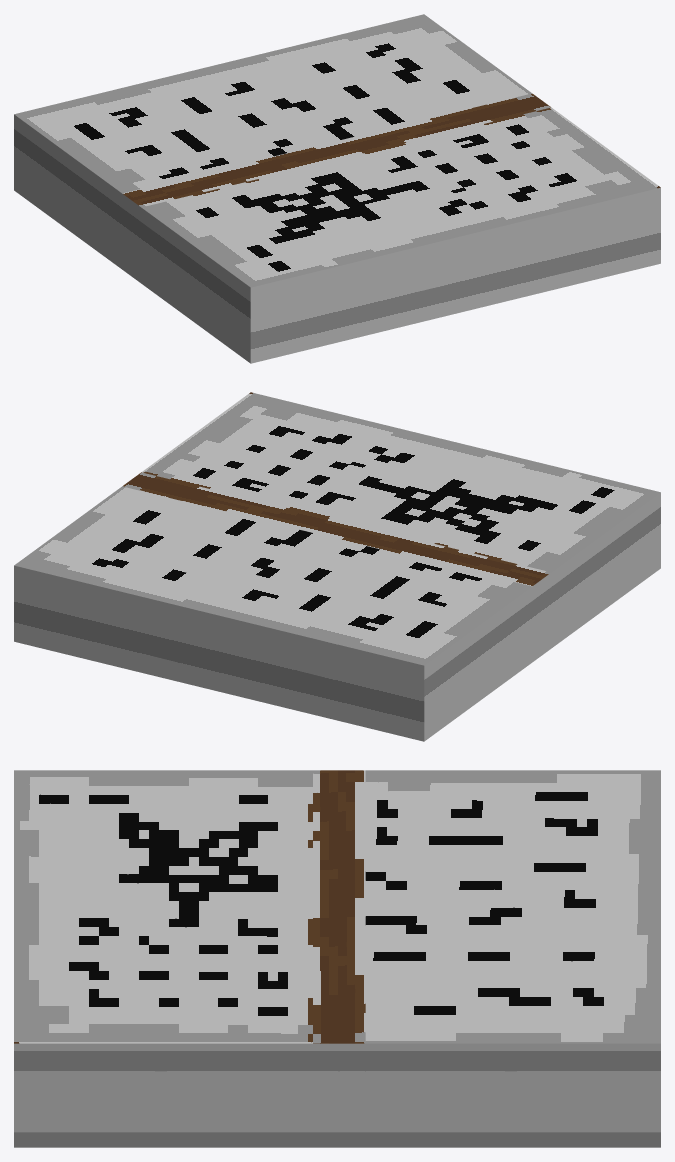
Rendered from booik.glb.
The picture shows the model from 3 angles, top to bottom: view 1: azimuth 30°, elevation 25°; view 2: azimuth 150°, elevation 25°; view 3: azimuth 270°, elevation 25°; orthographic projection. The views are drawn at different scales.
Parts seen in each view (by area): view 1: book; view 2: book; view 3: book.
Boxes of the visible parts, box(x1,y1,x2,y2) form: book: box(14, 14, 660, 363); book: box(14, 392, 660, 741); book: box(14, 770, 660, 1147).
Size of the model in its own units: 1.55 by 0.274 by 1.55.
Materials: 1 (1 with a texture image).
